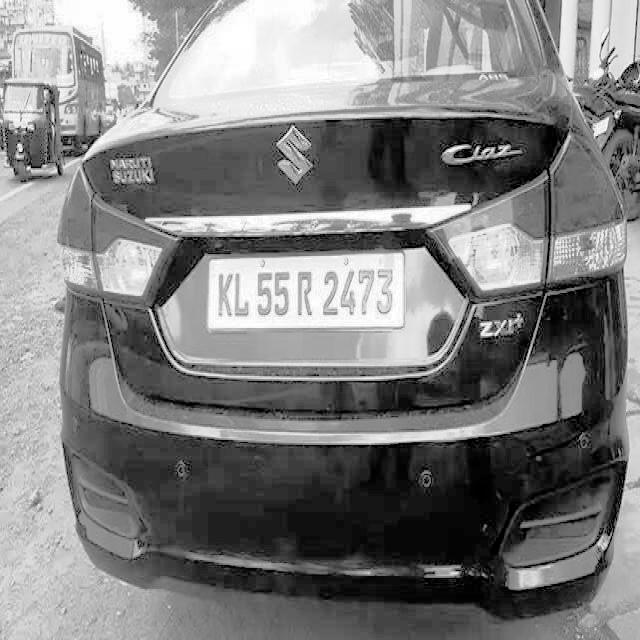Car: (63, 0, 633, 605)
